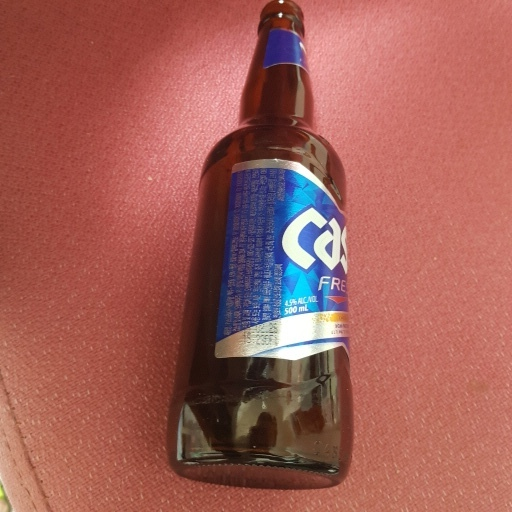Glass_1: (166, 2, 363, 494)
